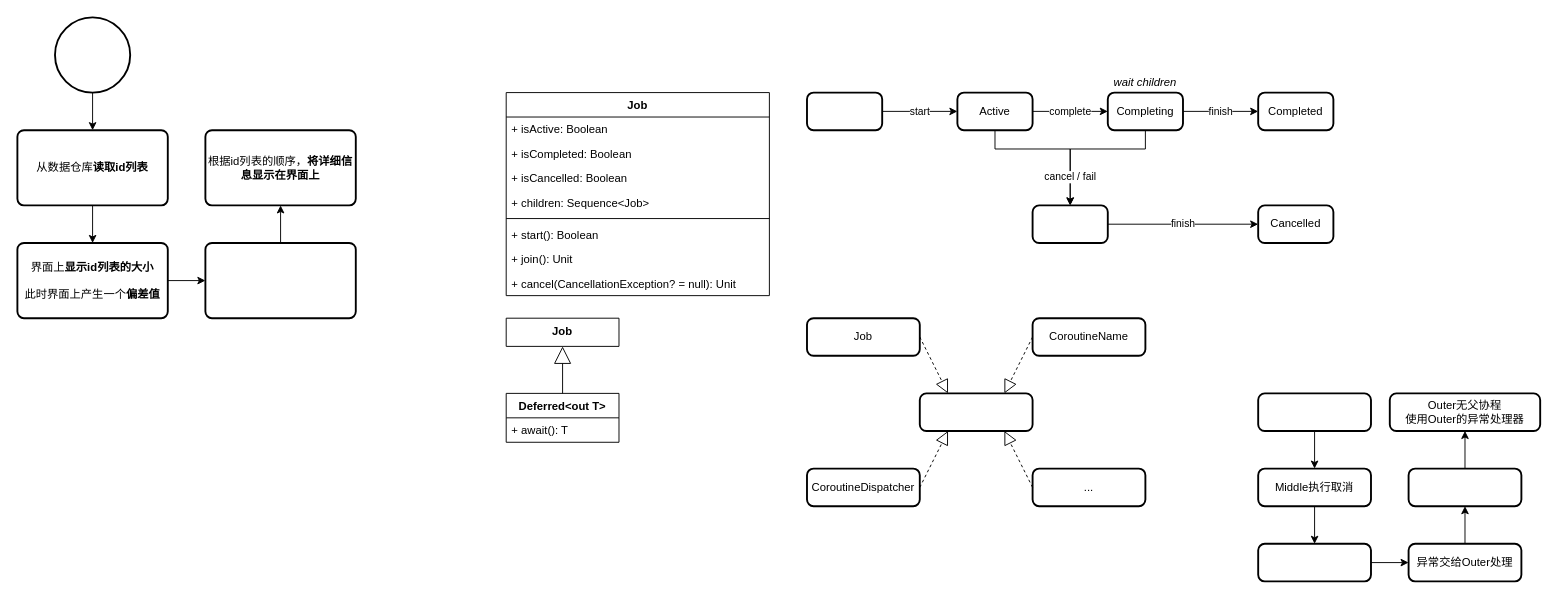
This 1557x598 diagram has some shape labels left out. Each missing label, with the centre of its shape:
"Cancelling" belongs at point (1069, 223).
"CoroutineContext" belongs at point (975, 411).
"Inner执行取消" belongs at point (1314, 562).
"Middle抛出异常" belongs at point (1314, 411).
"New" belongs at point (844, 111).
"Outer执行取消" belongs at point (1464, 487).
"从数据仓库根据id和偏差值 读取详细信息" belongs at point (280, 280).
"进入界面" belongs at point (92, 54).
